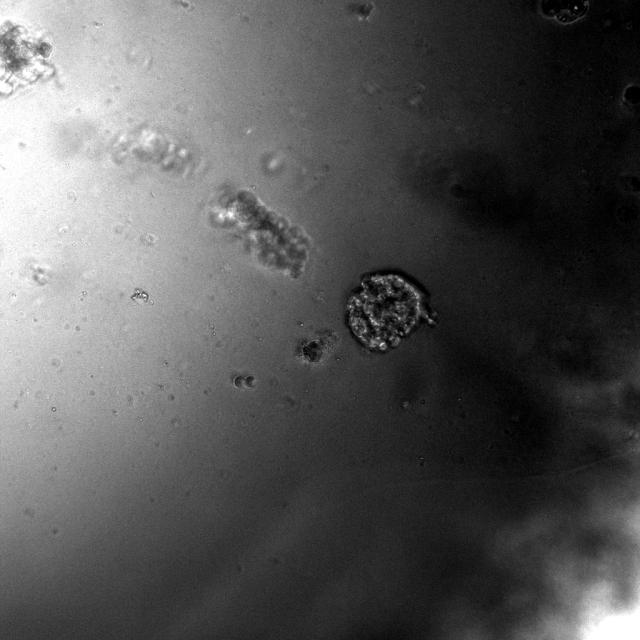organoid: (204, 190, 311, 278), (346, 272, 437, 352), (0, 21, 54, 96), (297, 331, 339, 363), (537, 0, 589, 25), (234, 376, 257, 388), (357, 3, 373, 17)
